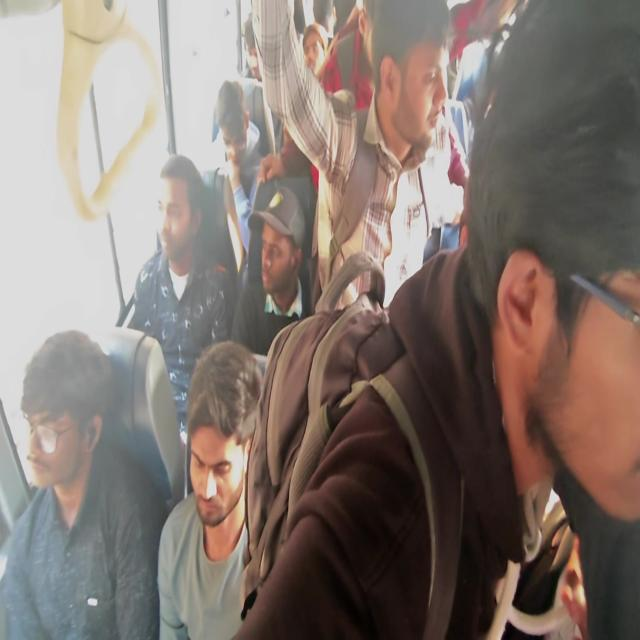person: (230, 0, 639, 638), (465, 0, 639, 638), (251, 0, 451, 312), (1, 329, 166, 639), (156, 339, 263, 639), (127, 154, 233, 444), (231, 183, 312, 356), (213, 79, 263, 259)
